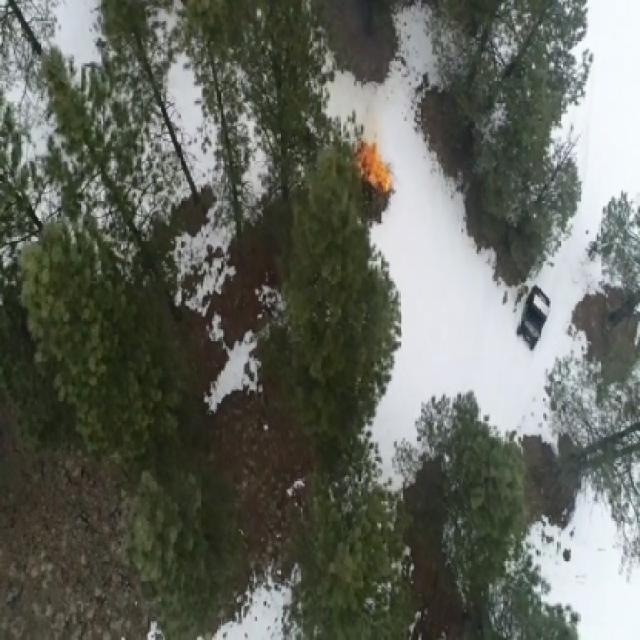Fire: (351, 137, 394, 195)
